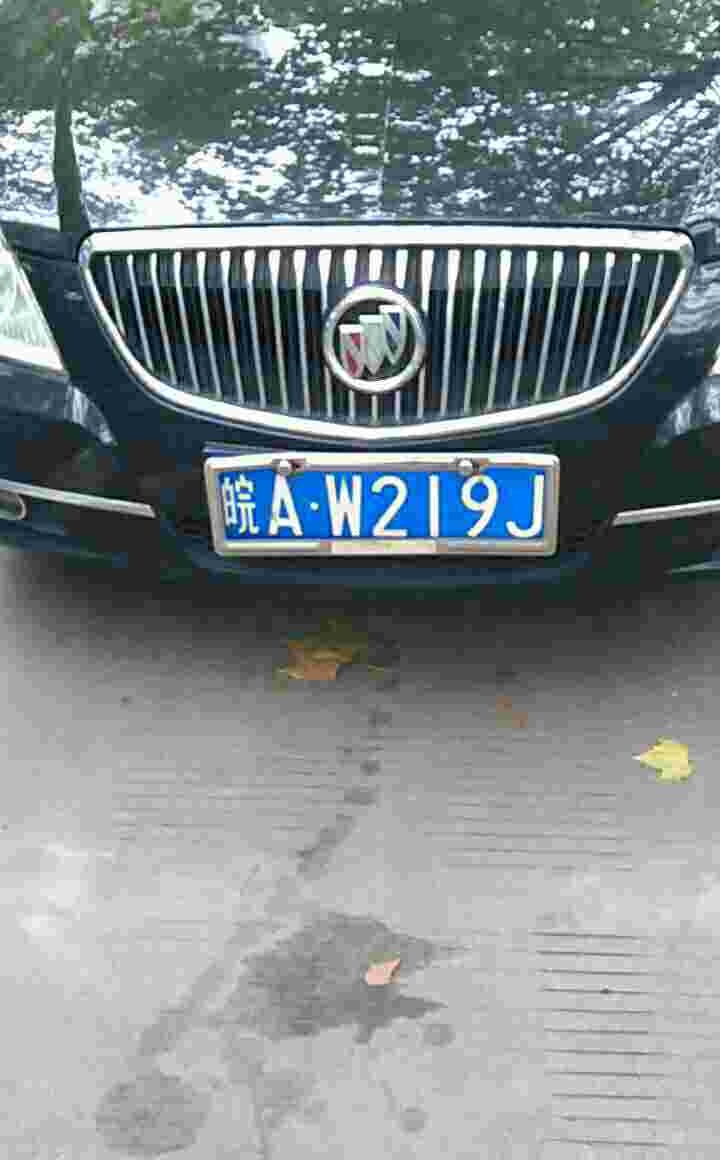license_plate: (205, 461, 562, 530)
